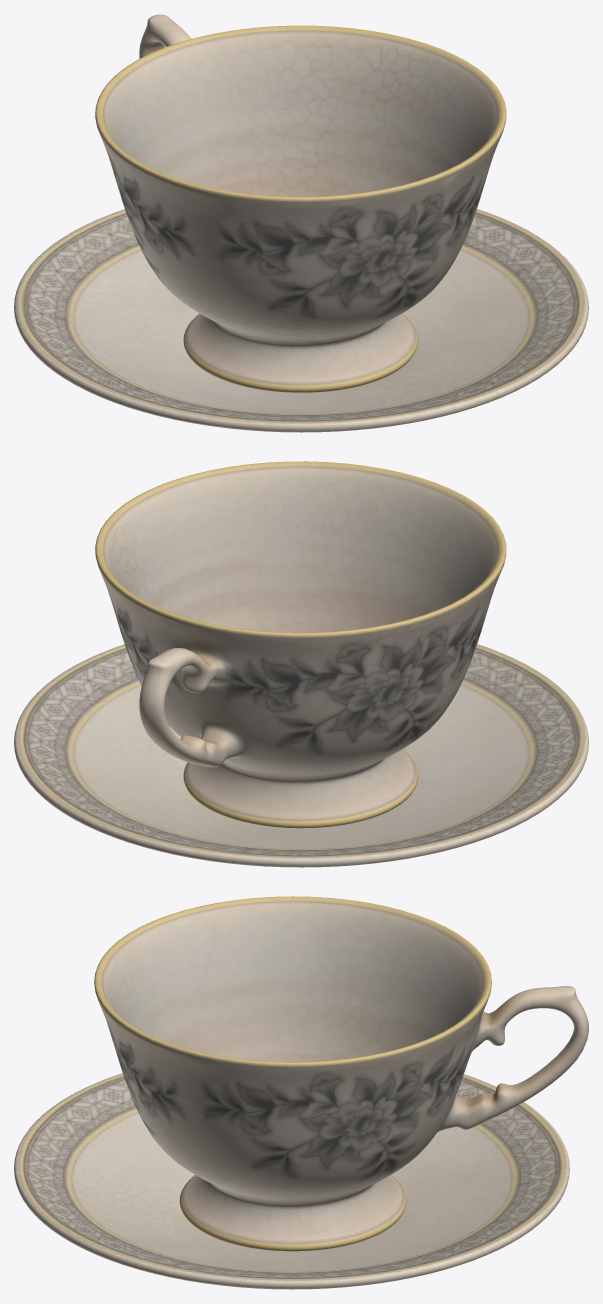
Rendered from DiffuseTransmissionTeacup.glb.
3 views of the same model, one above another, from view 1: azimuth 30°, elevation 25°; view 2: azimuth 150°, elevation 25°; view 3: azimuth 270°, elevation 25° (orthographic). The views are drawn at different scales.
Visible parts, largest first — view 1: tea_cup, tea_saucer; view 2: tea_cup, tea_saucer; view 3: tea_cup, tea_saucer.
Boxes of the visible parts, bbox=[...] form: tea_cup: bbox=[95, 14, 506, 392]; tea_saucer: bbox=[14, 209, 588, 432]; tea_cup: bbox=[95, 461, 506, 828]; tea_saucer: bbox=[14, 644, 588, 867]; tea_cup: bbox=[94, 896, 588, 1251]; tea_saucer: bbox=[14, 1073, 569, 1289].
Size of the model in its own units: 0.1486 by 0.0704 by 0.1537.
2 materials, 2 textured.
